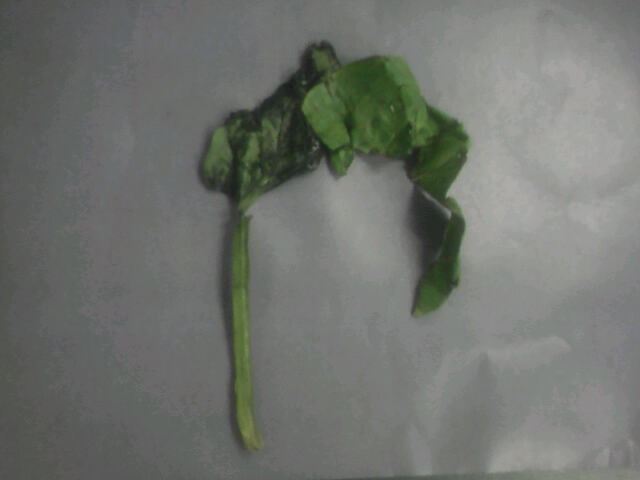yellow: (190, 44, 503, 341)
